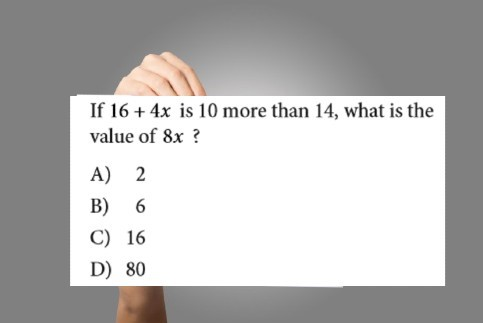questionPaper: (71, 95, 446, 284)
